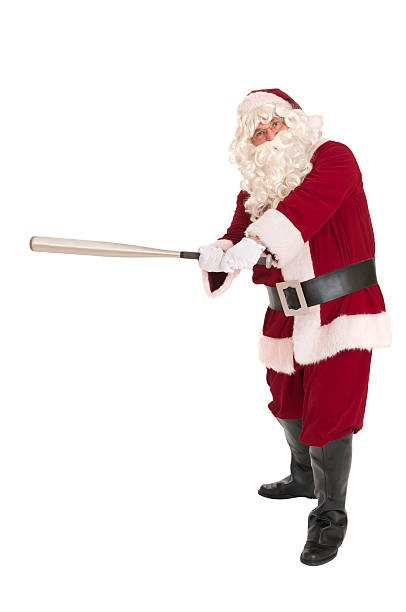bita: (29, 232, 250, 269)
